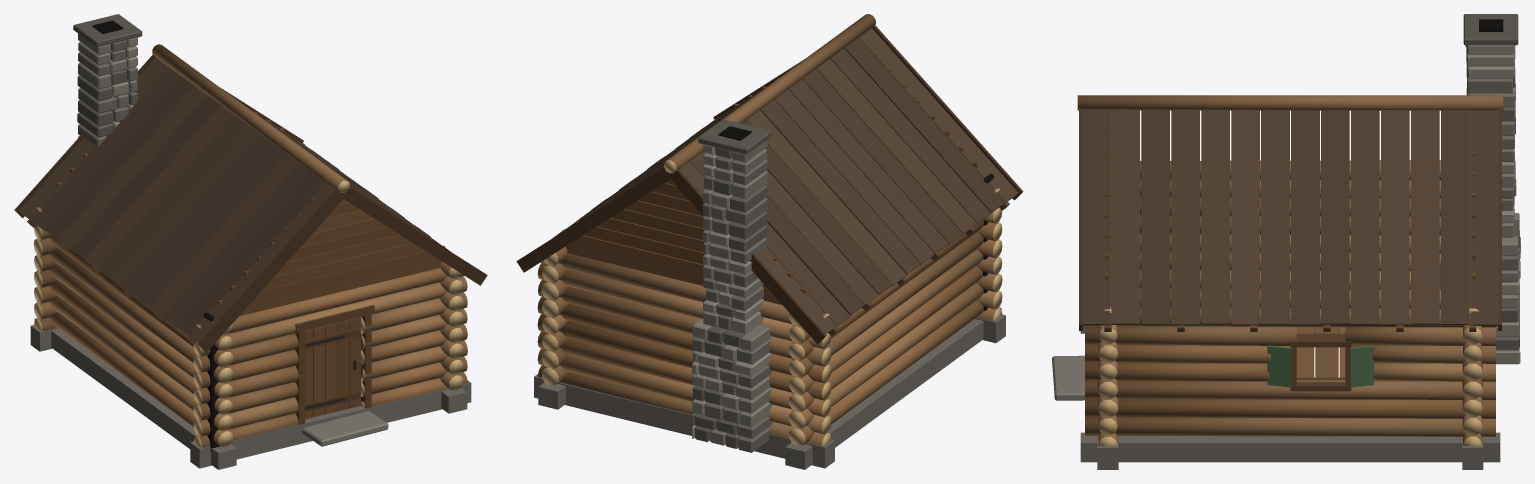
The model's file is cabin.glb.
3 views of the same model, side by side, from view 1: azimuth 30°, elevation 25°; view 2: azimuth 150°, elevation 25°; view 3: azimuth 270°, elevation 25° (orthographic). The views are drawn at different scales.
Parts seen in each view (by area): view 1: cabin_roof, cabin_log, cabin_wood, cabin_stone, cabin_door_wood, cabin_char; view 2: cabin_log, cabin_roof, cabin_stone, cabin_wood; view 3: cabin_roof, cabin_log, cabin_stone, cabin_wood.
Part boxes in pixels (x1,y1,x2,y2): cabin_roof: [19, 57, 450, 343]; cabin_log: [33, 44, 467, 447]; cabin_wood: [14, 54, 487, 424]; cabin_stone: [30, 14, 471, 469]; cabin_door_wood: [305, 317, 360, 419]; cabin_char: [203, 312, 219, 452]; cabin_log: [537, 14, 1002, 446]; cabin_roof: [552, 28, 1018, 333]; cabin_stone: [534, 119, 1005, 469]; cabin_wood: [516, 25, 1023, 344]; cabin_roof: [1082, 110, 1498, 325]; cabin_log: [1077, 95, 1503, 445]; cabin_stone: [1052, 14, 1520, 469]; cabin_wood: [1079, 108, 1501, 391].
Bounding box in the file's own units: 6.25 × 6.14 × 7.71.
